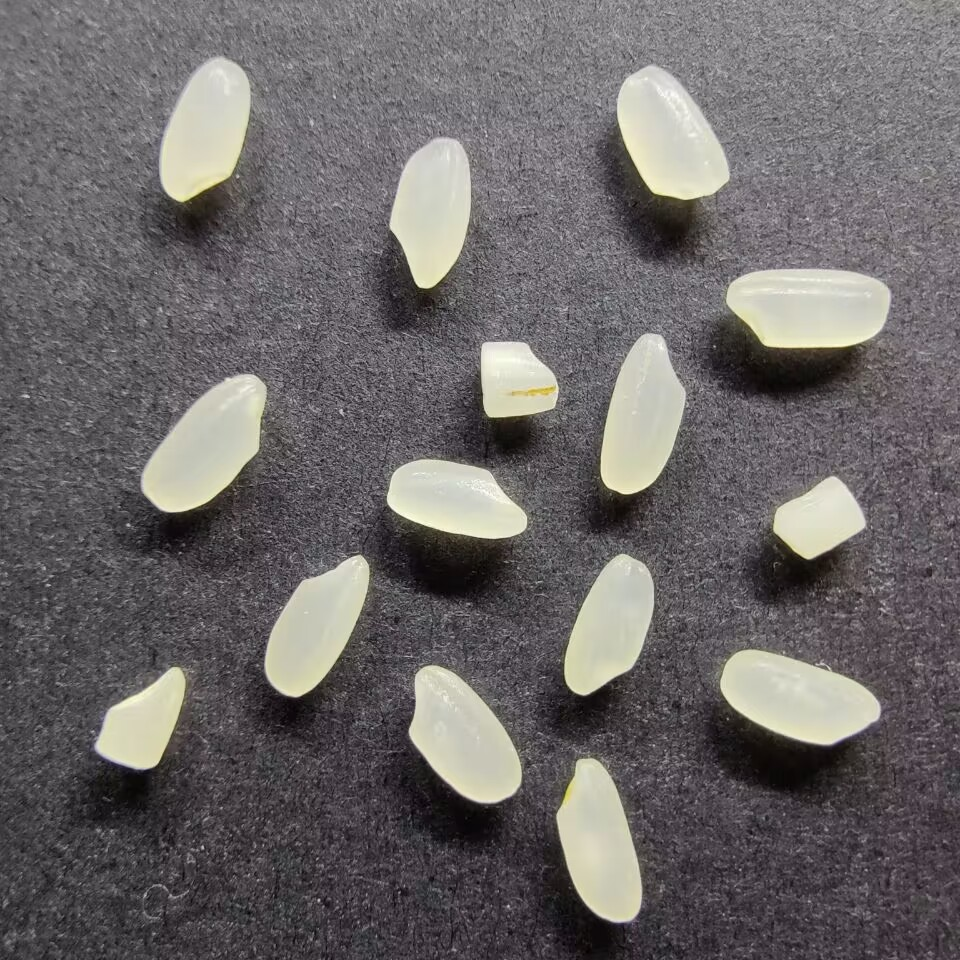broken: (92, 665, 187, 772), (771, 474, 867, 562), (478, 338, 561, 420)
rice: (138, 373, 268, 513), (405, 664, 525, 805), (718, 648, 881, 747), (615, 63, 731, 201), (262, 552, 370, 698), (553, 756, 644, 924), (599, 331, 686, 496), (724, 265, 890, 350), (158, 56, 251, 203), (563, 551, 655, 696), (387, 135, 471, 289), (386, 458, 528, 540)
